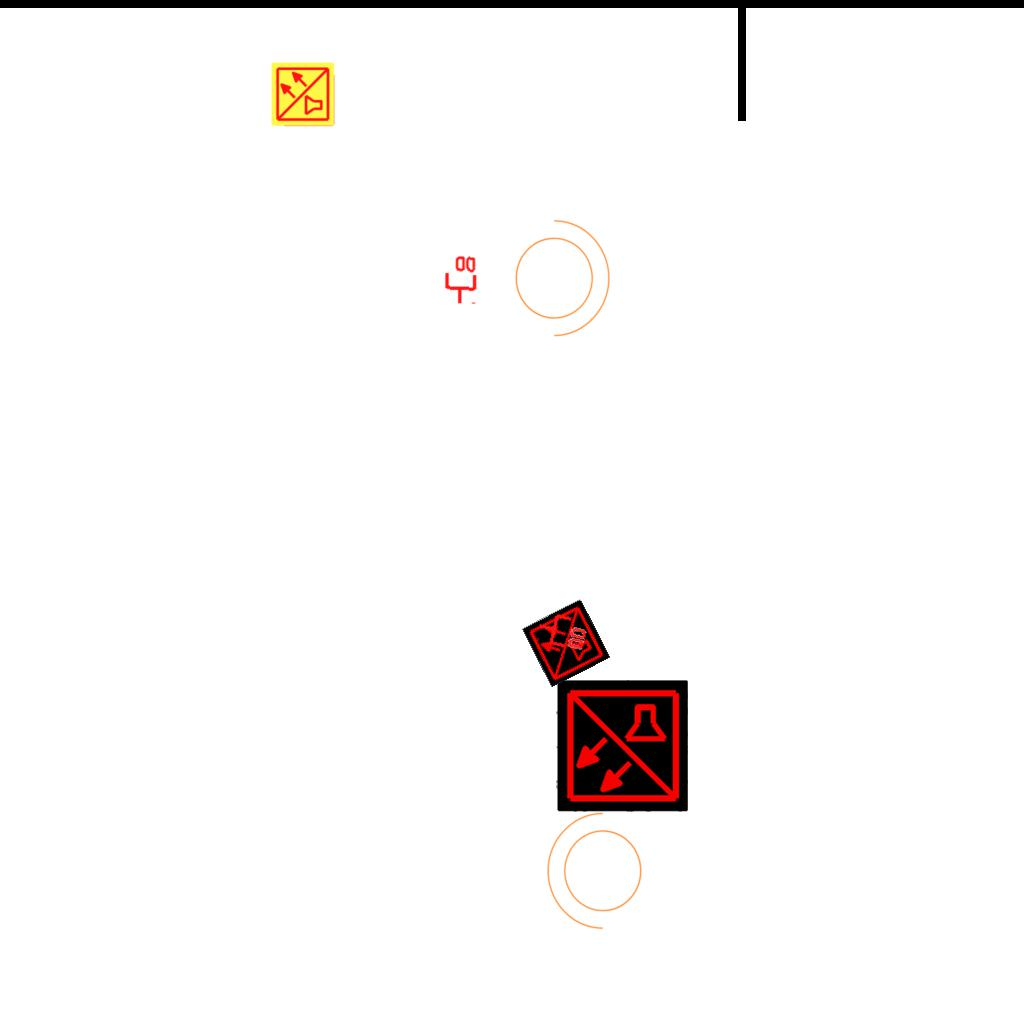Datenanschluss_zweifach: (534, 608, 592, 653), (441, 253, 479, 306)
OKW_Multisensormelder_(Kombination_optischer_Rauch-Kahlenmonoxid_Waerme-Melder): (556, 680, 688, 812), (521, 598, 611, 688), (270, 61, 336, 127)
Scheinwerfer_fuer_Alarmbeleuchtung: (503, 209, 615, 341), (542, 808, 654, 940)
